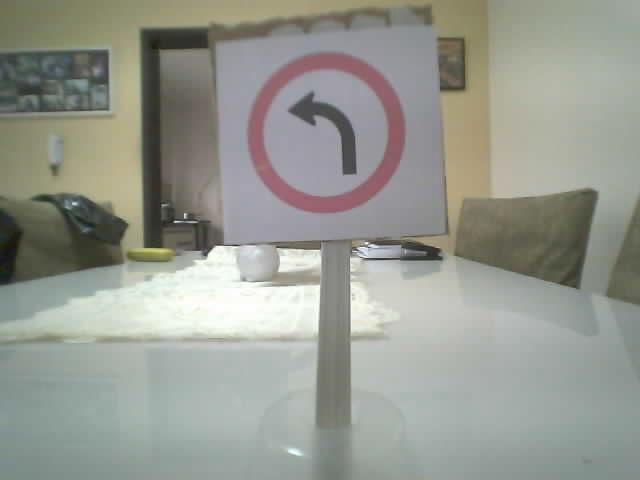R-25a_esquerda: (244, 50, 407, 214)
